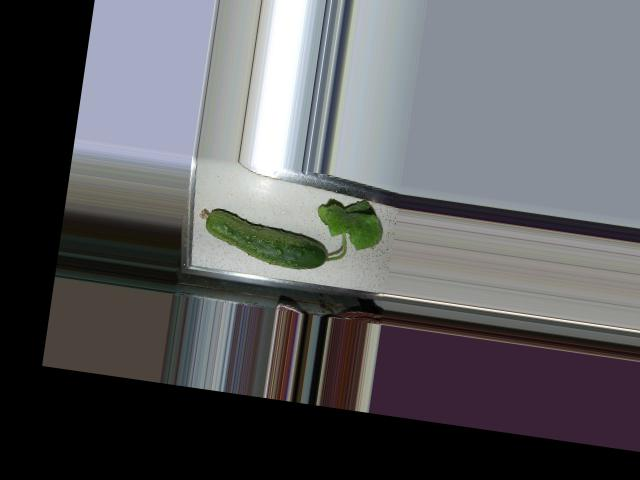cucumber: (194, 206, 333, 273)
